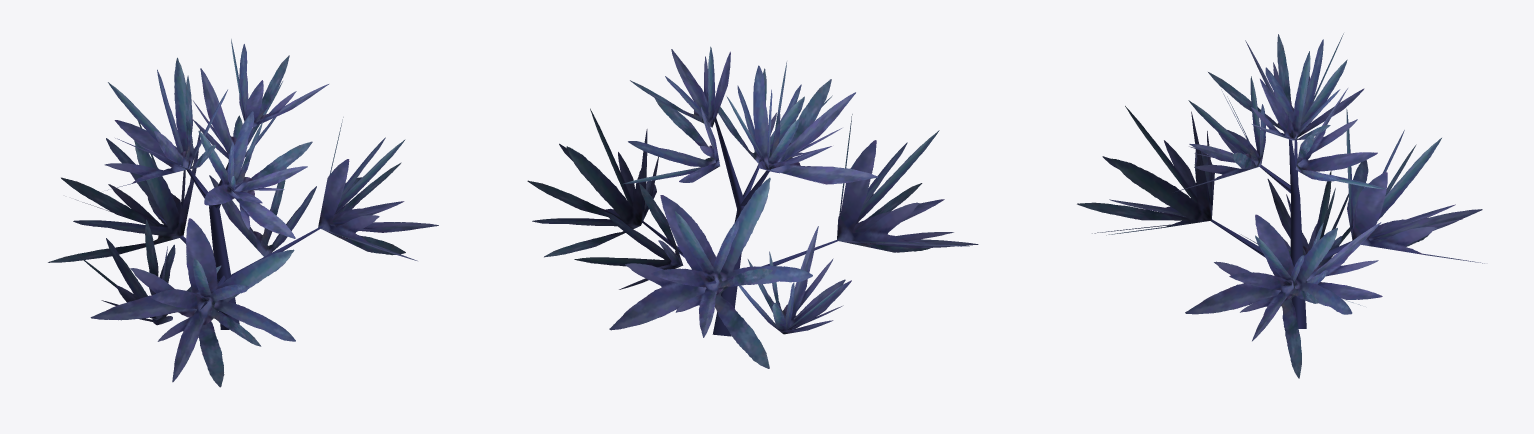
Rendered from shrb_blueleaf_big_l1.fbx.
3 views of the same model, side by side, from view 1: azimuth 30°, elevation 25°; view 2: azimuth 150°, elevation 25°; view 3: azimuth 270°, elevation 25° (orthographic). The views are drawn at different scales.
Parts seen in each view (by area): view 1: mesh_node; view 2: mesh_node; view 3: mesh_node.
Part boxes in pixels (x1,y1,x2,y2): mesh_node: (48, 39, 438, 387); mesh_node: (527, 46, 978, 368); mesh_node: (1077, 33, 1484, 378).
Size of the model in its own units: 3.61 by 2.37 by 3.51.
2 materials, 2 textured.
